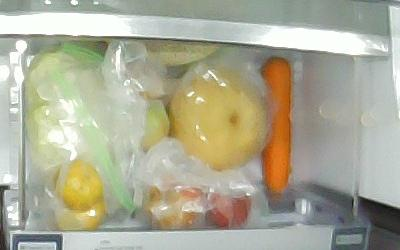cabbage_vinyl: (25, 46, 77, 173), (261, 57, 293, 192)
melon: (139, 39, 220, 65)
pear_vinyl: (168, 69, 265, 171)
prune_vinyl: (149, 182, 201, 229), (205, 193, 251, 230)
tangerine_vinyl: (55, 160, 104, 212), (56, 201, 105, 228)
